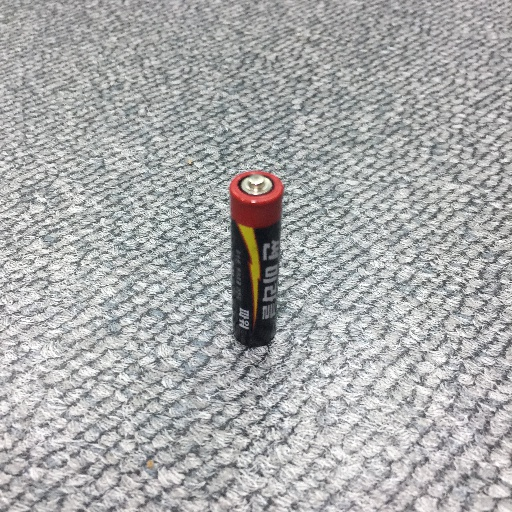Battery_0: (223, 163, 288, 354)
